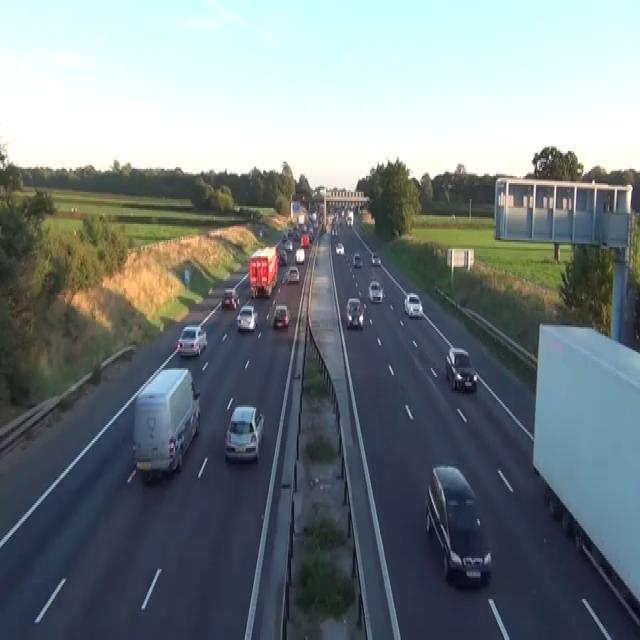Car: (424, 464, 492, 587), (224, 404, 264, 462), (545, 483, 573, 537), (444, 347, 477, 391), (177, 323, 207, 358), (345, 297, 364, 329), (236, 304, 258, 331), (403, 292, 423, 318), (272, 304, 290, 327), (221, 288, 239, 309), (368, 279, 384, 302), (285, 265, 299, 283), (294, 247, 304, 263), (278, 249, 287, 265), (352, 252, 362, 266), (371, 252, 381, 265), (300, 233, 309, 247), (335, 242, 344, 254), (285, 240, 293, 251), (250, 286, 256, 299), (293, 229, 300, 240), (308, 228, 314, 240), (282, 231, 288, 242), (331, 228, 337, 236), (287, 228, 293, 236), (311, 212, 317, 220), (321, 224, 326, 233), (302, 224, 308, 231), (259, 228, 262, 236)
Truck: (532, 322, 639, 624), (132, 366, 200, 478), (248, 245, 278, 299), (346, 210, 353, 228)
